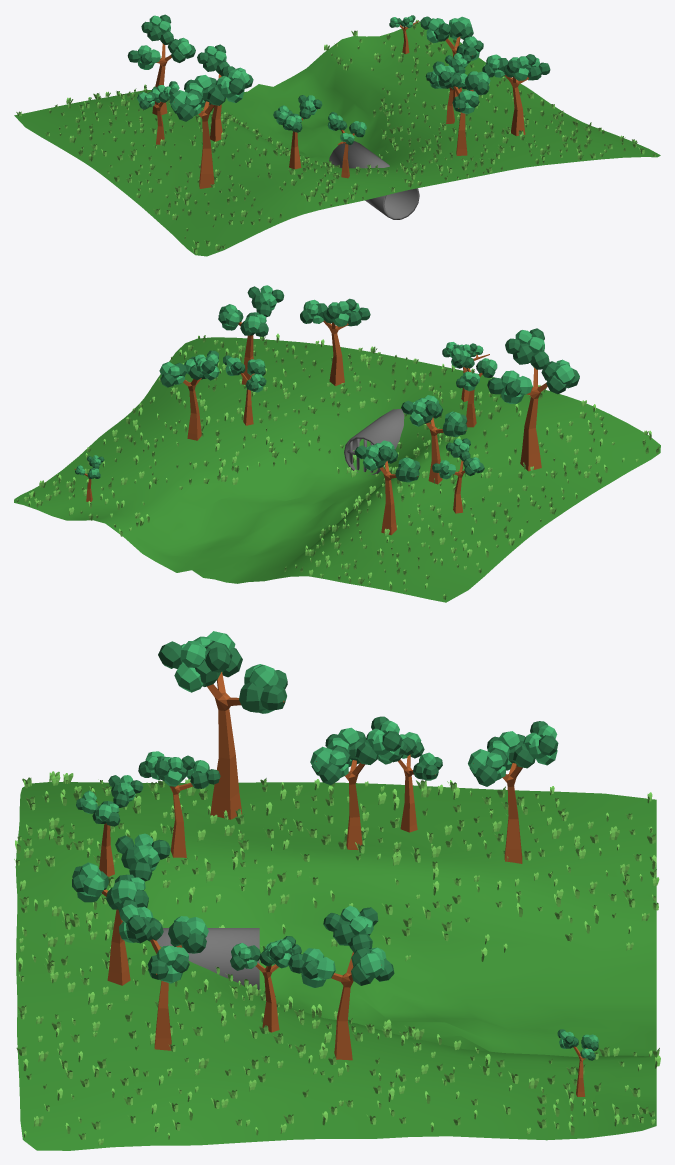
Rendered from [poo]_Ending_Stage.fbx.
3 views of the same model, one above another, from view 1: azimuth 30°, elevation 25°; view 2: azimuth 150°, elevation 25°; view 3: azimuth 270°, elevation 25° (orthographic). The views are drawn at different scales.
Parts seen in each view (by area): view 1: Terrain, Plane.176, Cube.107, Cube.023, End_Base, Cube.209, Cube.128, Cube.230, Cube.086, Cube.065, Cube.044, Cube.149 (+2 smaller); view 2: Terrain, Plane.176, Cube.107, Cube.128, Cube.209, Cube.023, Cube.230, Cube.065, End_Base, Cube.086, Cube.044, Cube.188 (+2 smaller); view 3: Terrain, Plane.176, Cube.107, Cube.230, Cube.209, Cube.128, Cube.023, Cube.065, Cube.086, End_Base, Cube.188, Cube.149 (+2 smaller).
Part boxes in pixels (x1,y1,x2,y2): Terrain: [14, 22, 660, 256]; Plane.176: [16, 20, 655, 254]; Cube.107: [169, 66, 245, 188]; Cube.023: [127, 14, 195, 115]; End_Base: [329, 141, 419, 219]; Cube.209: [432, 61, 490, 155]; Cube.128: [482, 54, 550, 135]; Cube.230: [420, 16, 483, 100]; Cube.086: [273, 95, 322, 169]; Cube.065: [197, 44, 253, 141]; Cube.044: [137, 81, 179, 144]; Cube.149: [327, 112, 366, 178]; Terrain: [14, 337, 660, 602]; Plane.176: [16, 333, 659, 599]; Cube.107: [487, 328, 579, 471]; Cube.128: [218, 285, 284, 384]; Cube.209: [300, 298, 370, 385]; Cube.023: [354, 440, 420, 535]; Cube.230: [159, 350, 219, 440]; Cube.065: [401, 395, 467, 484]; End_Base: [344, 408, 404, 475]; Cube.086: [451, 346, 497, 427]; Cube.044: [432, 438, 484, 513]; Cube.188: [223, 355, 266, 425]; Terrain: [15, 782, 656, 1150]; Plane.176: [14, 771, 660, 1145]; Cube.107: [158, 631, 287, 819]; Cube.230: [288, 905, 394, 1060]; Cube.209: [72, 833, 170, 985]; Cube.128: [118, 900, 208, 1050]; Cube.023: [468, 721, 558, 863]; Cube.065: [310, 716, 402, 849]; Cube.086: [138, 751, 220, 857]; End_Base: [156, 928, 259, 990]; Cube.188: [230, 936, 301, 1032]; Cube.149: [76, 775, 143, 876].
Bounding box in the file's own units: 20411 × 7449 × 15785.
